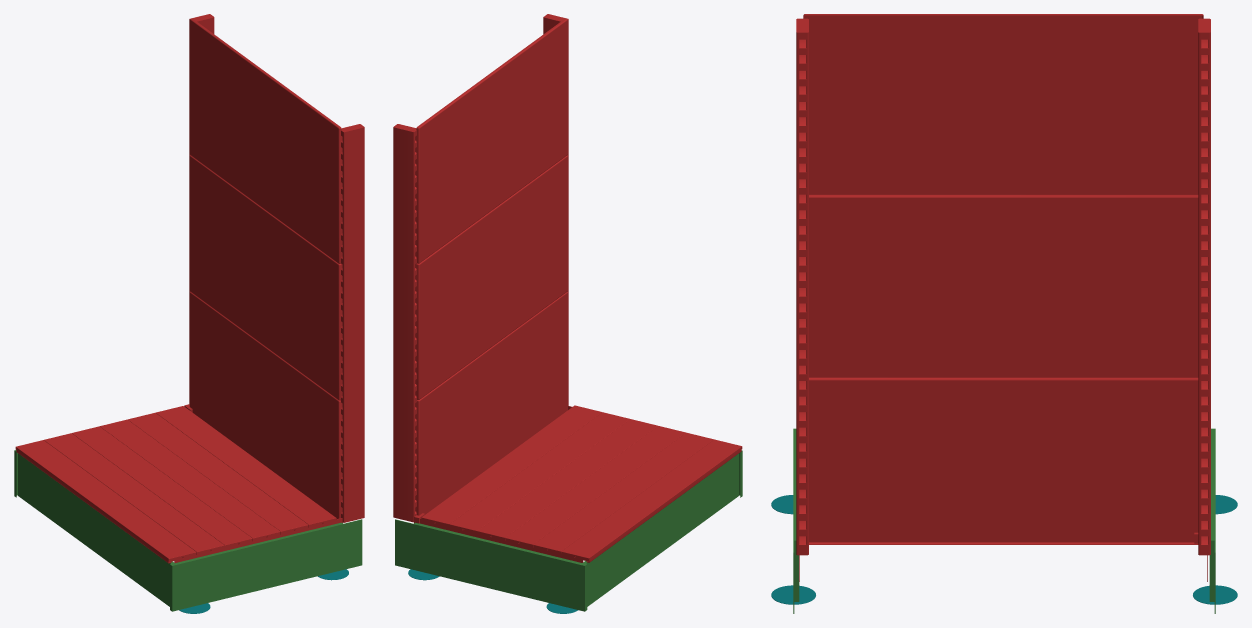
Rendered from SM_Shelves_Base_02.fbx.
3 renders of one model, left to right at view 1: azimuth 30°, elevation 25°; view 2: azimuth 150°, elevation 25°; view 3: azimuth 270°, elevation 25°, orthographic. The views are drawn at different scales.
Parts seen in each view (by area): view 1: SM_Shelves_Base_02; view 2: SM_Shelves_Base_02; view 3: SM_Shelves_Base_02.
Part boxes in pixels (<box>): SM_Shelves_Base_02: <box>14,14,364,613</box>; SM_Shelves_Base_02: <box>393,14,742,613</box>; SM_Shelves_Base_02: <box>771,14,1237,613</box>.
Size of the model in its own units: 73.77 by 159 by 114.
